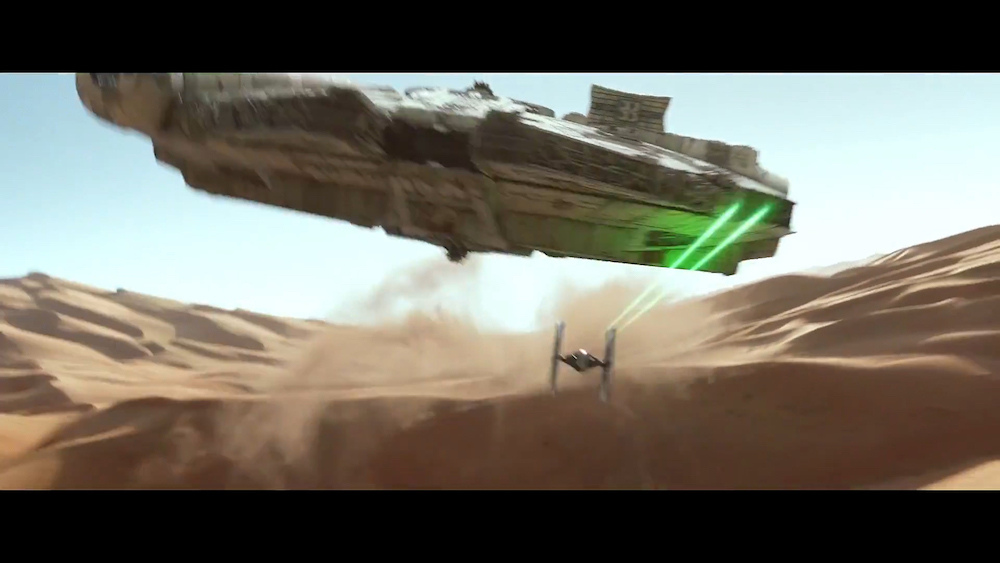Millennium Falcon: (77, 77, 795, 279)
Tie Fighter: (548, 322, 618, 405)
